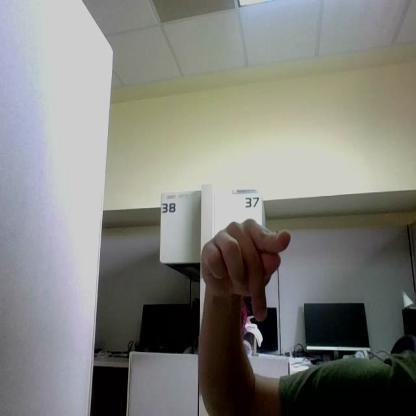P: (201, 219, 289, 320)
